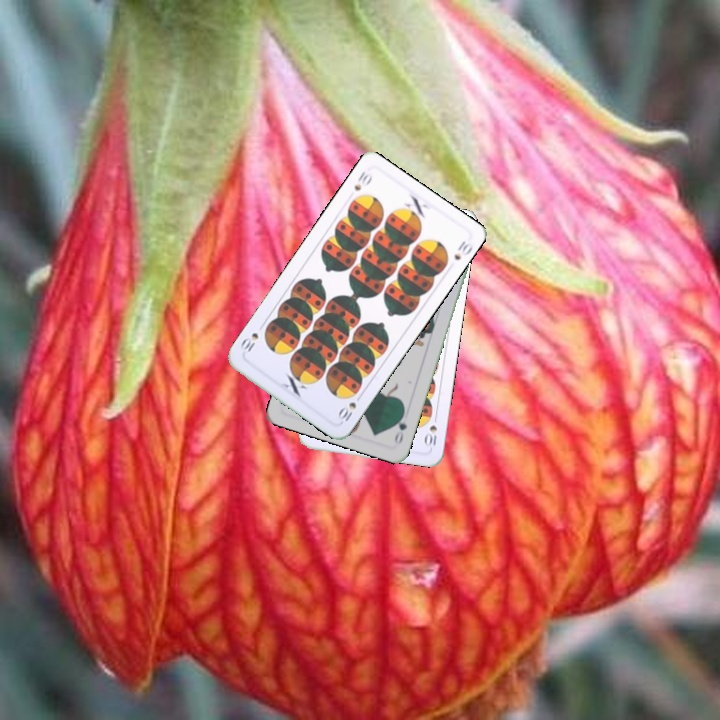GO: (390, 407, 410, 446)
S10: (334, 390, 365, 425), (421, 411, 440, 449), (350, 167, 375, 193)
